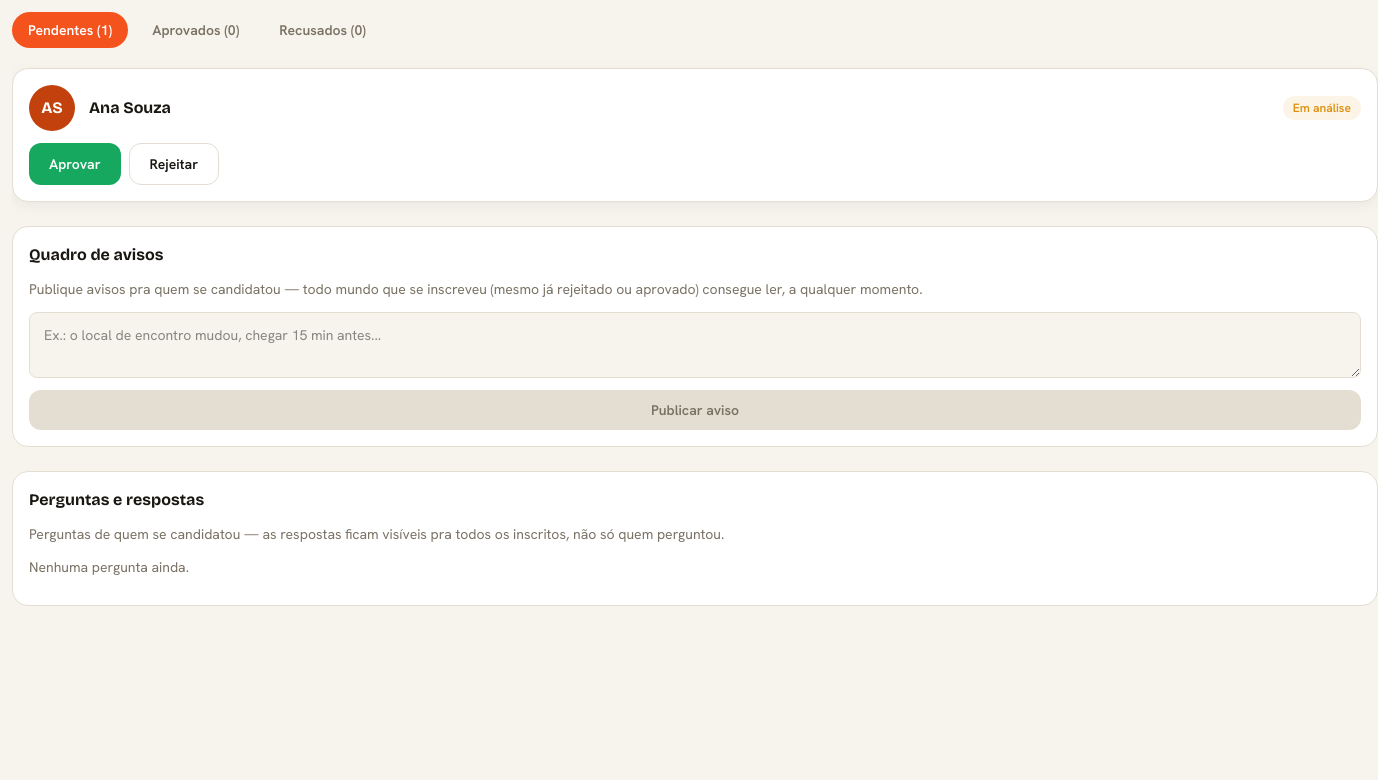
Test: VagaCandidatosPage › mostra a mensagem da API quando a decisão falha
The width and height of the screenshot is (1378, 780).
Expected: the text "Ana Souza" is shown, [89,98,171,117]
Click the button "Rejeitar": (174,164) [128,143,219,185]
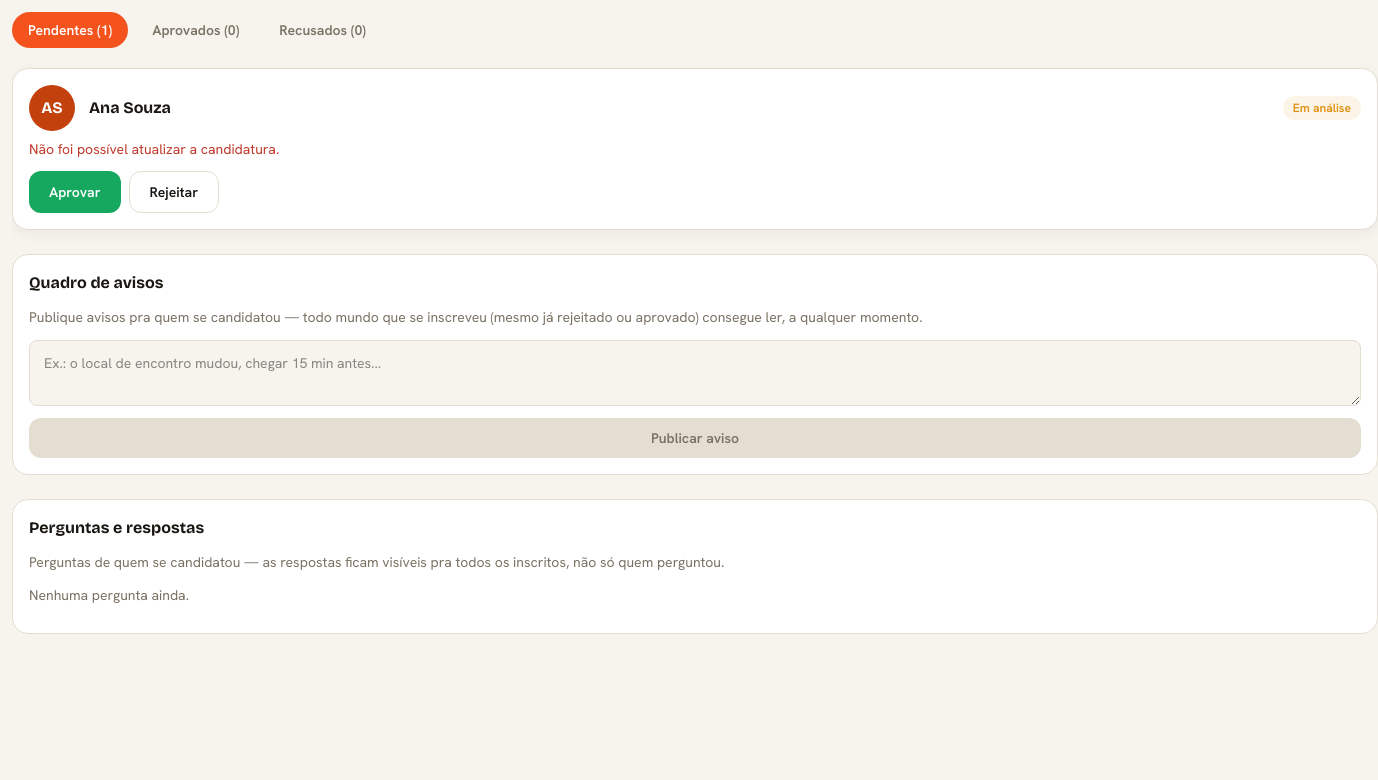
Expected: the text "Não foi possível atualizar a candidatura." is shown, [29,140,279,158]
